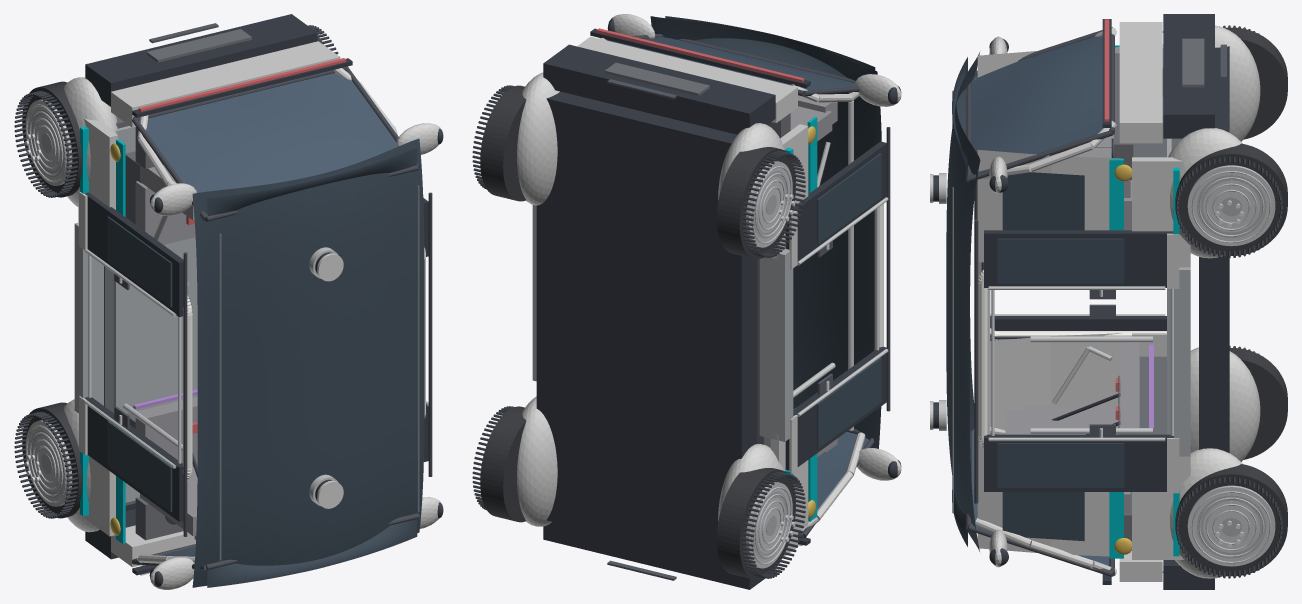
The model's file is autonomous_shuttle_topology_v4.glb.
3 renders of one model, left to right at view 1: azimuth 30°, elevation 25°; view 2: azimuth 150°, elevation 25°; view 3: azimuth 270°, elevation 25°, orthographic.
Visible parts, largest first — view 1: V4_roof_continuous_48x72, V4_rear_panorama_64x48, interior_non_slip_floor, rear_black_lower_bumper, rear_white_nose, doorway_lower_step_-1, V4_front_roof_transition, door_glass_-1_0, door_glass_-1_1, open_sliding_door_-1_1, open_sliding_door_-1_0, V4_rear_roof_transition (+37 smaller); view 2: underside_skid, V4_roof_continuous_48x72, rear_black_lower_bumper, doorway_lower_step_-1, fender_1_1.27, front_black_lower_bumper, fender_1_-1.27, tire_1_1.27, tire_1_-1.27, tire_-1_1.27, tire_-1_-1.27, rear_white_nose (+30 smaller); view 3: V4_rear_panorama_64x48, V4_roof_continuous_48x72, white_side_pillar_-1_0, underside_skid, door_glass_1_1, door_glass_1_0, rear_white_nose, rear_black_lower_bumper, open_sliding_door_1_1, dark_upper_side_window_1_1, white_side_pillar_1_1, open_sliding_door_1_0 (+55 smaller).
Part boxes in pixels (x1=…): V4_roof_continuous_48x72: x1=192, y1=138, x2=424, y2=587; V4_rear_panorama_64x48: x1=139, y1=73, x2=396, y2=215; interior_non_slip_floor: x1=113, y1=126, x2=197, y2=502; rear_black_lower_bumper: x1=85, y1=14, x2=317, y2=106; rear_white_nose: x1=111, y1=41, x2=339, y2=127; doorway_lower_step_-1: x1=74, y1=222, x2=103, y2=413; V4_front_roof_transition: x1=207, y1=519, x2=417, y2=587; door_glass_-1_0: x1=107, y1=421, x2=172, y2=511; door_glass_-1_1: x1=107, y1=216, x2=172, y2=307; open_sliding_door_-1_1: x1=84, y1=192, x2=183, y2=317; open_sliding_door_-1_0: x1=84, y1=397, x2=183, y2=521; V4_rear_roof_transition: x1=207, y1=148, x2=417, y2=216; underside_skid: x1=536, y1=91, x2=756, y2=562; V4_roof_continuous_48x72: x1=650, y1=16, x2=881, y2=448; rear_black_lower_bumper: x1=543, y1=44, x2=775, y2=134; doorway_lower_step_-1: x1=759, y1=249, x2=793, y2=441; fender_1_1.27: x1=517, y1=72, x2=559, y2=205; front_black_lower_bumper: x1=543, y1=522, x2=764, y2=589; fender_1_-1.27: x1=517, y1=396, x2=557, y2=526; tire_1_1.27: x1=480, y1=85, x2=526, y2=201; tire_1_-1.27: x1=480, y1=406, x2=526, y2=522; tire_-1_1.27: x1=716, y1=147, x2=795, y2=259; tire_-1_-1.27: x1=716, y1=468, x2=795, y2=579; rear_white_nose: x1=577, y1=36, x2=797, y2=122; V4_rear_panorama_64x48: x1=971, y1=36, x2=1102, y2=175; V4_roof_continuous_48x72: x1=946, y1=52, x2=980, y2=551; white_side_pillar_-1_0: x1=990, y1=333, x2=1121, y2=434; underside_skid: x1=1199, y1=46, x2=1229, y2=452; door_glass_1_1: x1=997, y1=238, x2=1124, y2=283; door_glass_1_0: x1=997, y1=443, x2=1124, y2=487; rear_white_nose: x1=1119, y1=22, x2=1162, y2=143; rear_black_lower_bumper: x1=1163, y1=14, x2=1214, y2=138; open_sliding_door_1_1: x1=984, y1=230, x2=1173, y2=287; dark_upper_side_window_1_1: x1=1002, y1=172, x2=1084, y2=230; white_side_pillar_1_1: x1=977, y1=150, x2=1123, y2=262; open_sliding_door_1_0: x1=984, y1=434, x2=1173, y2=491.
Bounding box in the file's own units: 2.47 × 3.83 × 2.57.
